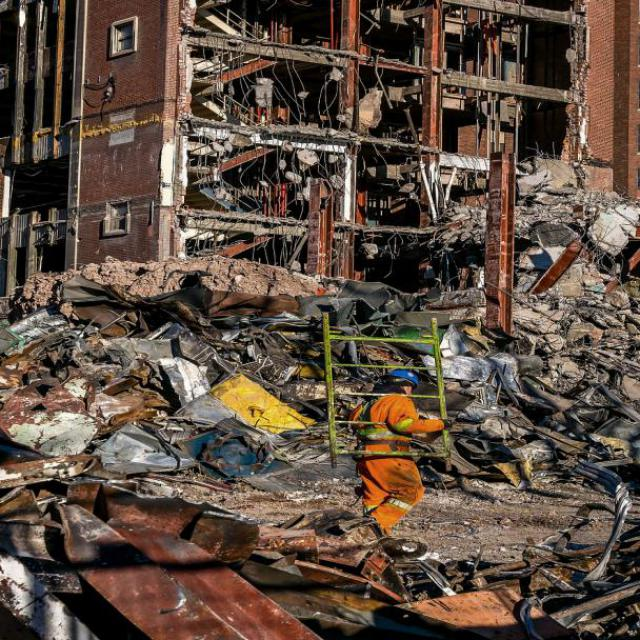gloves: (441, 415, 458, 436)
helmet: (381, 362, 423, 390)
vest: (357, 395, 425, 462)
